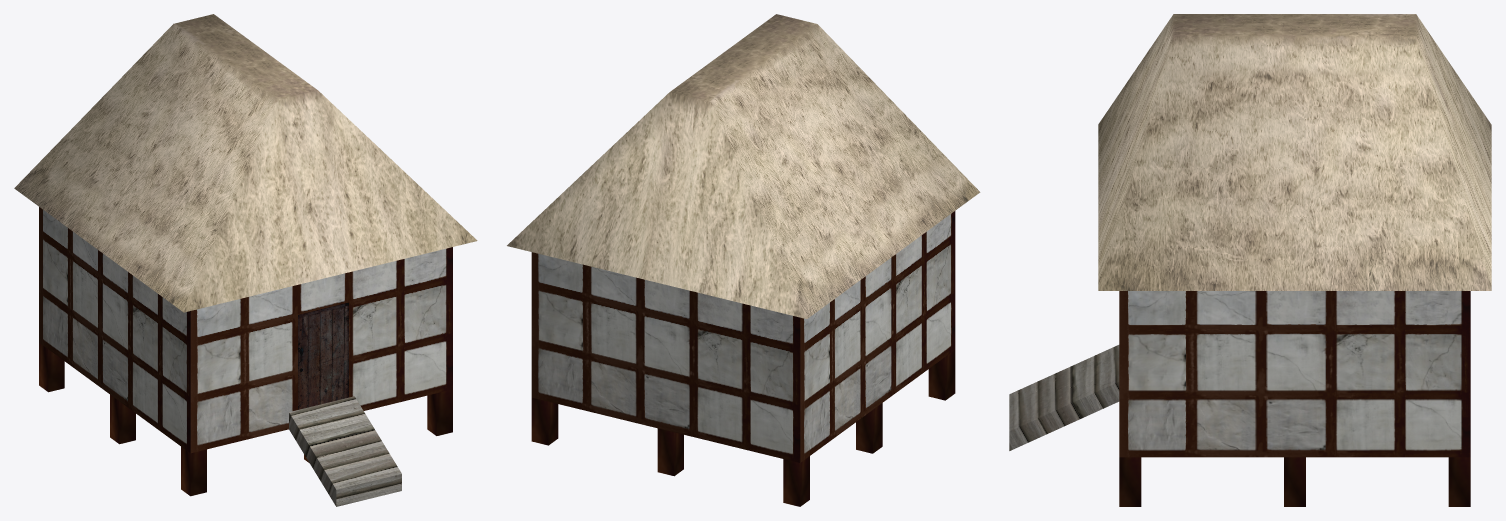
Rendered from granary.DAE.
3 renders of one model, left to right at view 1: azimuth 30°, elevation 25°; view 2: azimuth 150°, elevation 25°; view 3: azimuth 270°, elevation 25°, orthographic. The views are drawn at different scales.
Visible parts, largest first — view 1: Box001; view 2: Box001; view 3: Box001.
Part boxes in pixels (x1,y1,x2,y2): Box001: (14, 14, 477, 506); Box001: (507, 14, 980, 506); Box001: (1009, 14, 1491, 506).
Bounding box in the file's own units: 17.92 × 21.96 × 20.47.
